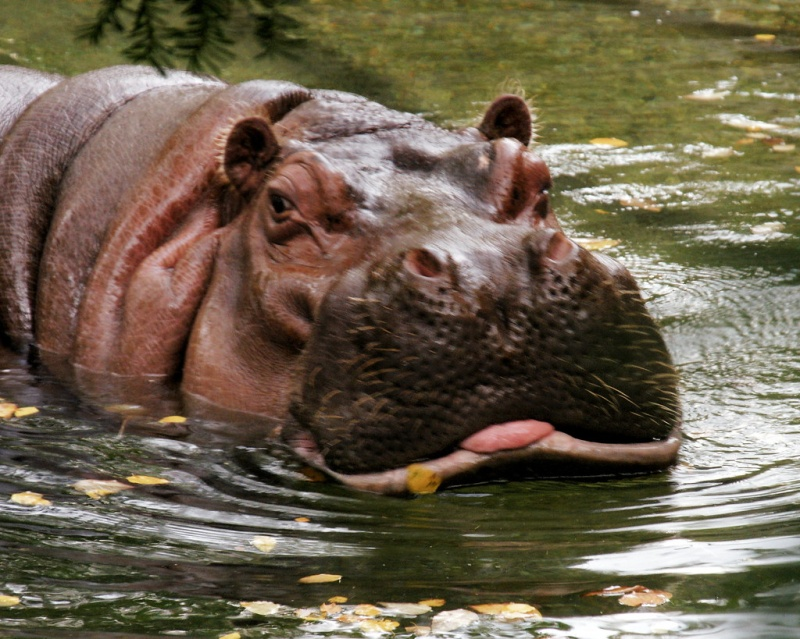hipopotamo: (0, 42, 707, 506)
